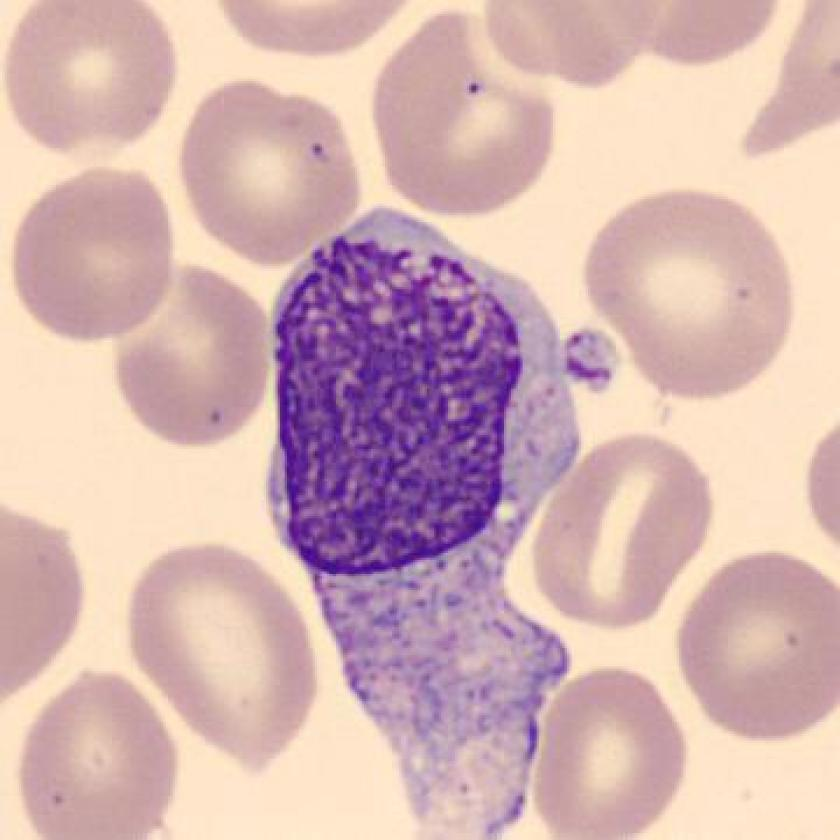monocyte: (242, 184, 592, 840)
